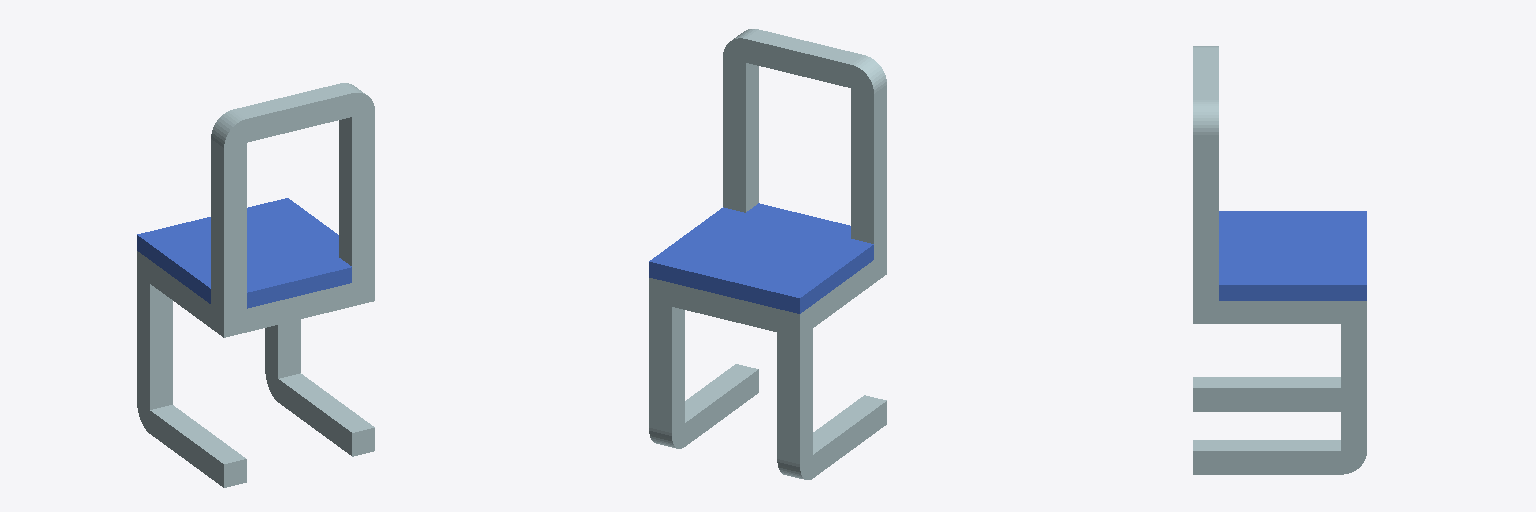
The model's file is chairModernFrameCushion.obj.
The picture shows the model from 3 angles: view 1: azimuth 30°, elevation 25°; view 2: azimuth 150°, elevation 25°; view 3: azimuth 270°, elevation 25°; orthographic projection.
Visible parts, largest first — view 1: chairModernFrameCushion; view 2: chairModernFrameCushion; view 3: chairModernFrameCushion.
Boxes of the visible parts, box(x1,y1,x2,y2) form: chairModernFrameCushion: box(137, 83, 374, 487); chairModernFrameCushion: box(649, 29, 886, 479); chairModernFrameCushion: box(1193, 46, 1366, 474).
Size of the model in its own units: 0.2 by 0.46 by 0.2.